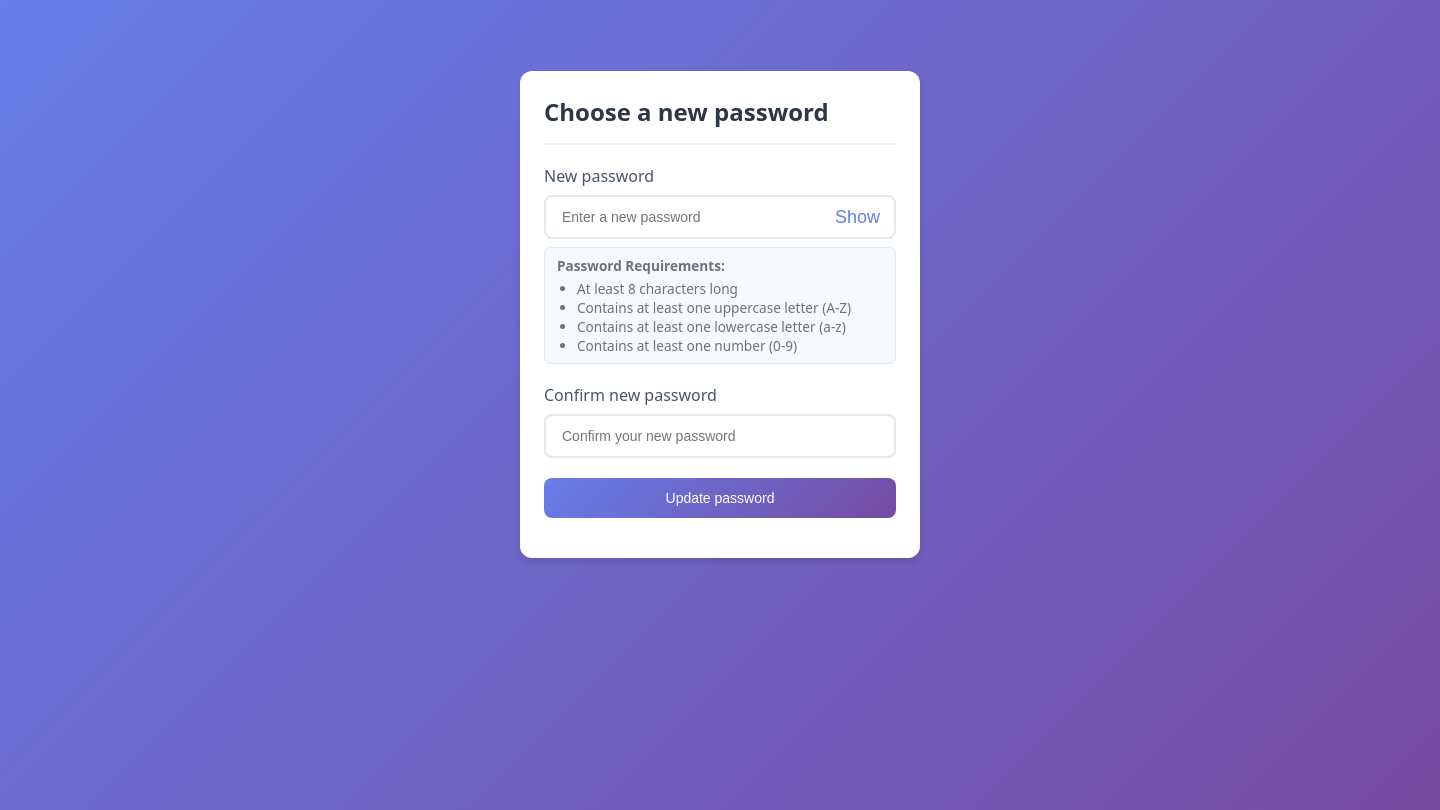
Test: Reset password page › blocks a password confirmation mismatch
The image size is (1440, 810).
Expected: the heading "Choose a new password" is shown, top-left (544, 94), bottom-right (829, 128)
In the password field labelled "New password": (720,216) top-left (544, 194), bottom-right (896, 238), type "NewPass123"
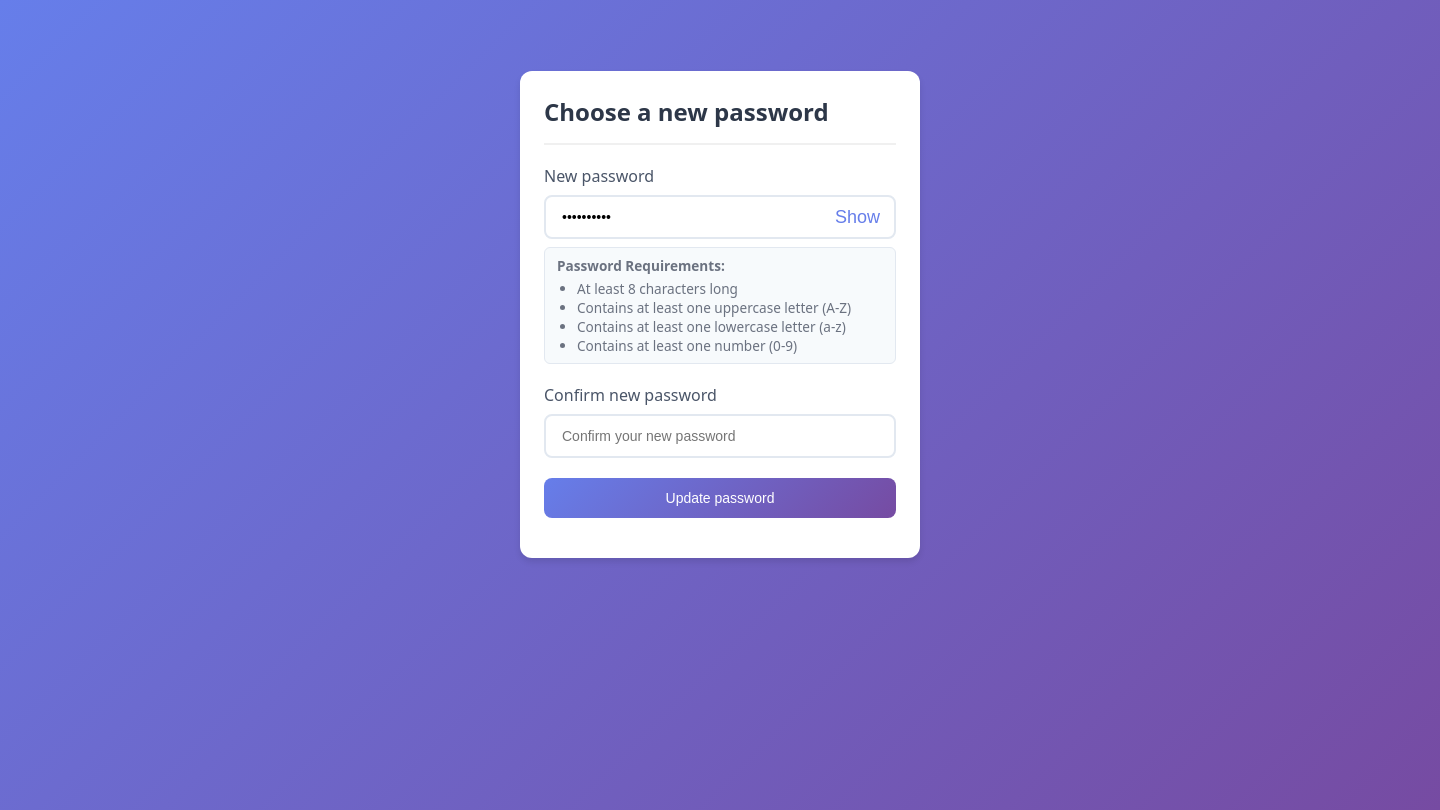
In the password field labelled "Confirm new password": (720,436) top-left (544, 414), bottom-right (896, 458), type "OtherPass123"
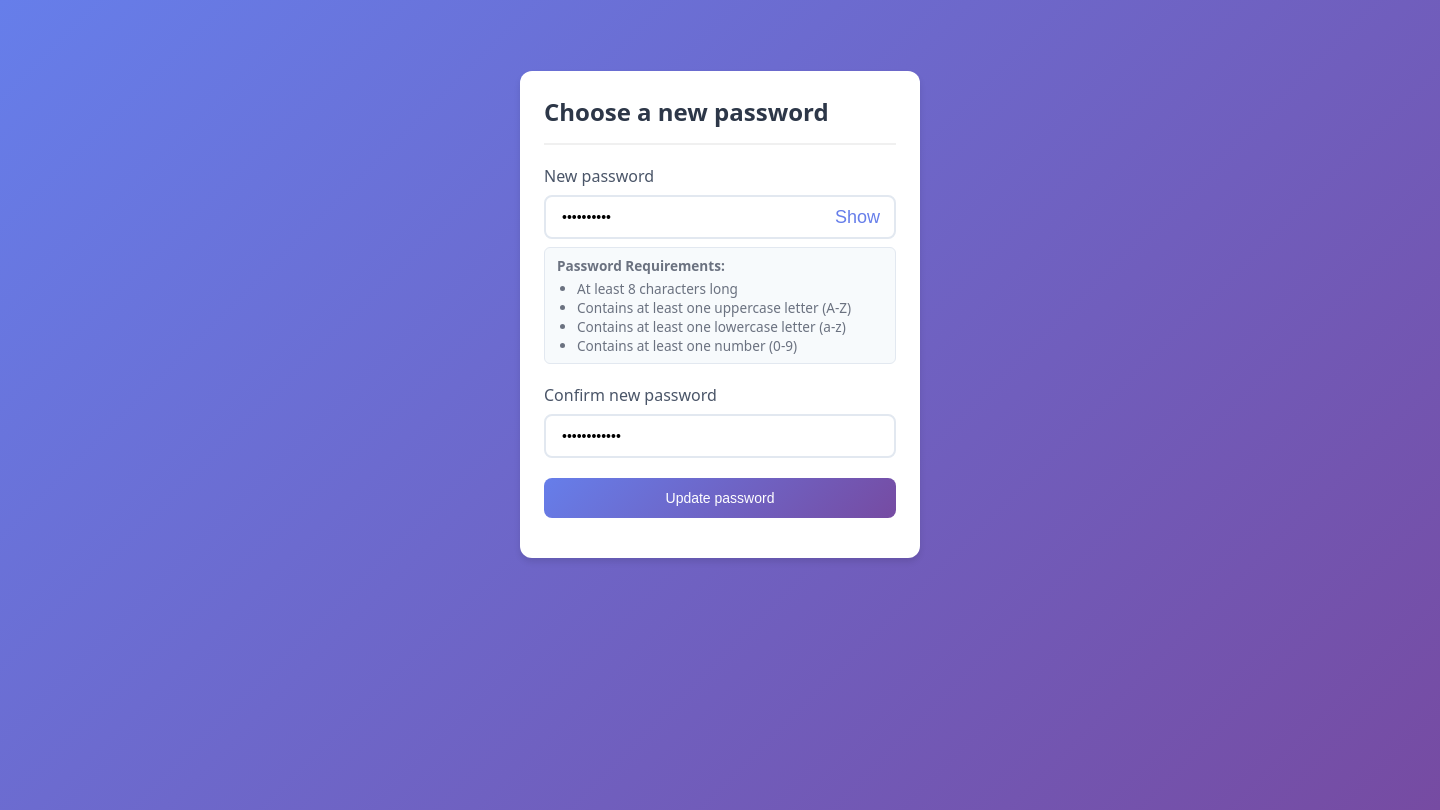
Click the button "Update password": (720,498) top-left (544, 478), bottom-right (896, 518)
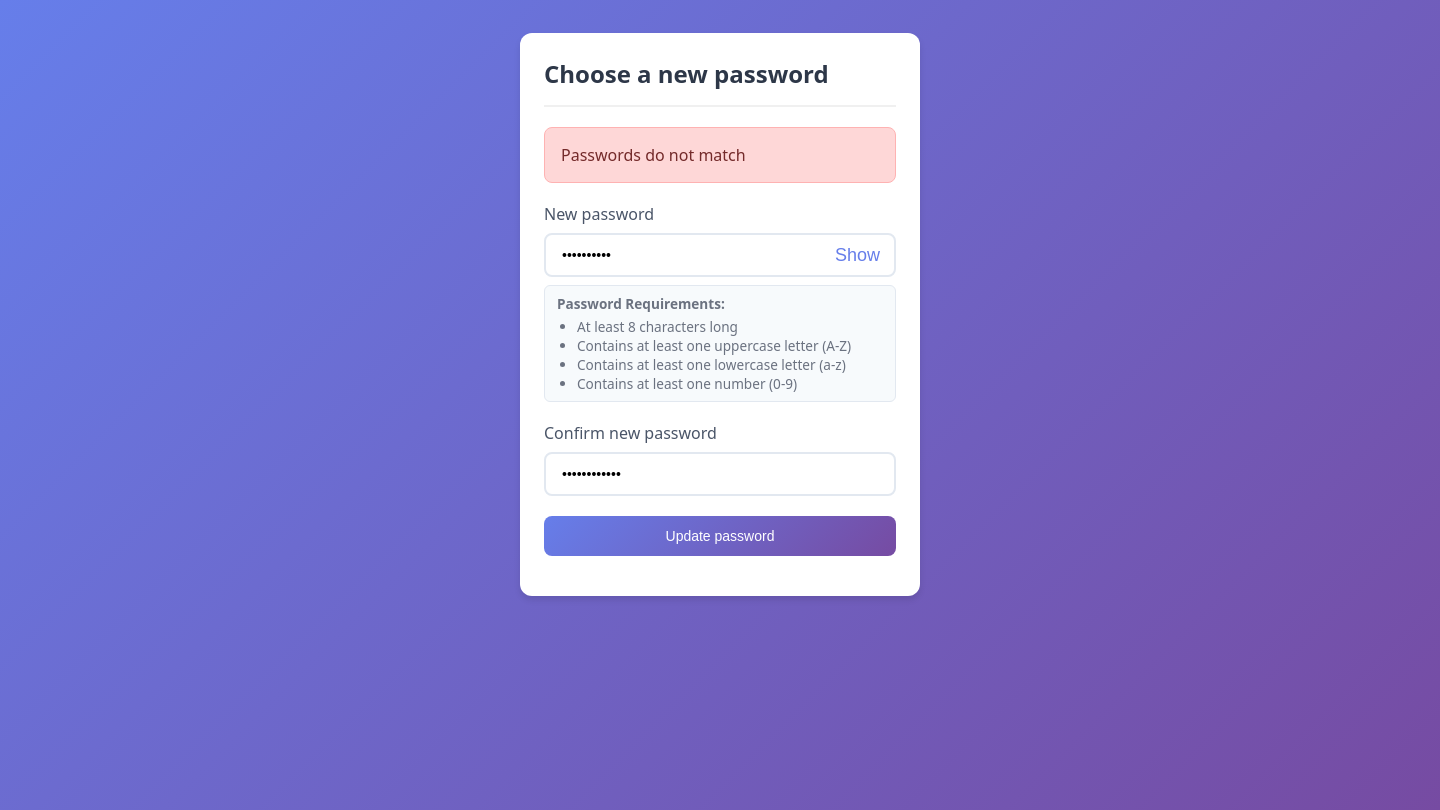
Now the text "Passwords do not match" is shown, box top-left (544, 126), bottom-right (896, 182)
